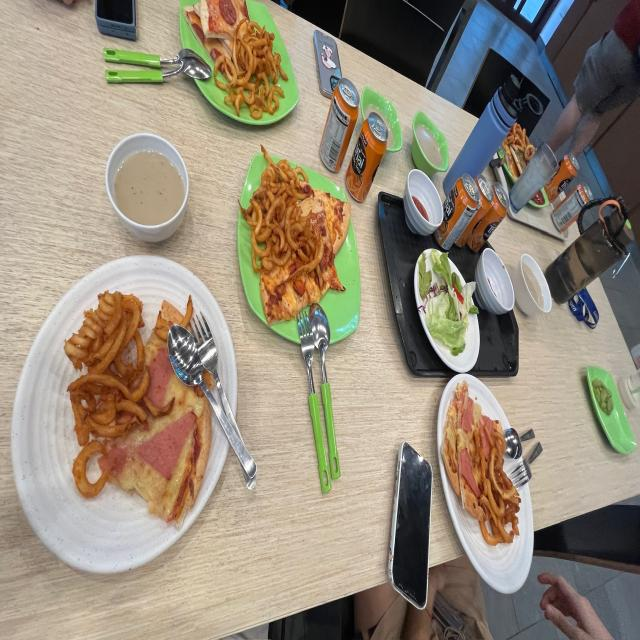Chicken: (219, 0, 236, 26), (293, 279, 305, 296), (275, 283, 287, 300)
Green veg: (418, 250, 477, 355), (460, 448, 479, 497), (459, 397, 474, 433)
Pork: (99, 411, 197, 480), (146, 348, 173, 408), (460, 448, 479, 496), (460, 396, 474, 432)
Potato: (64, 291, 149, 497), (241, 160, 323, 275), (213, 18, 284, 119), (478, 416, 520, 544), (153, 298, 193, 342)
